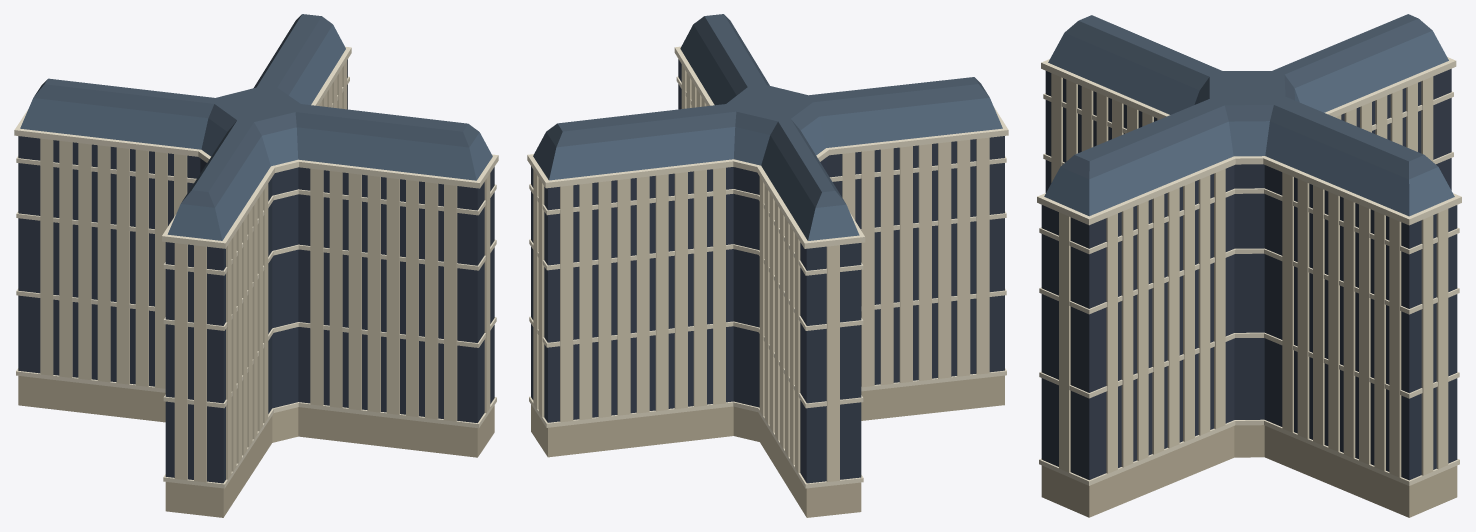
Rendered from le_boulevard_at_paris_w27831697.glb.
3 renders of one model, left to right at view 1: azimuth 30°, elevation 25°; view 2: azimuth 150°, elevation 25°; view 3: azimuth 270°, elevation 25°, orthographic. The views are drawn at different scales.
Visible parts, largest first — view 1: Resort_w27831697; view 2: Resort_w27831697; view 3: Resort_w27831697.
Part boxes in pixels (x1=…): Resort_w27831697: x1=14, y1=14, x2=498, y2=517; Resort_w27831697: x1=527, y1=14, x2=1008, y2=517; Resort_w27831697: x1=1037, y1=14, x2=1461, y2=517.
Size of the model in its own units: 128 by 114 by 128.
